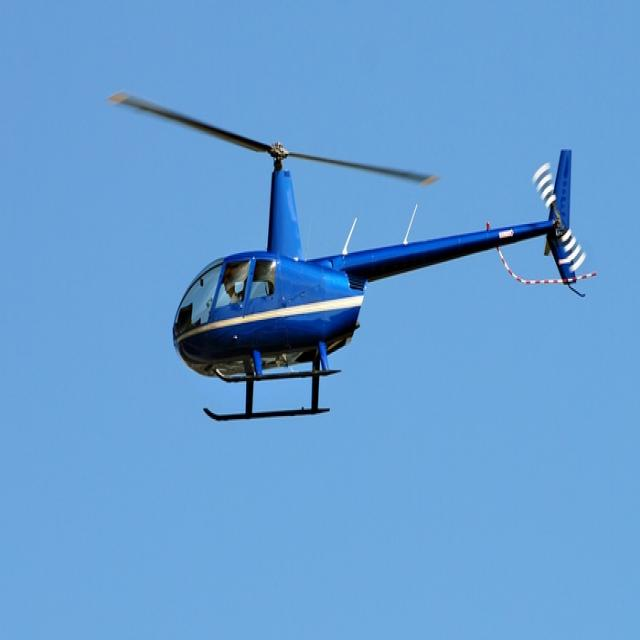helicopter: (108, 83, 593, 426)
